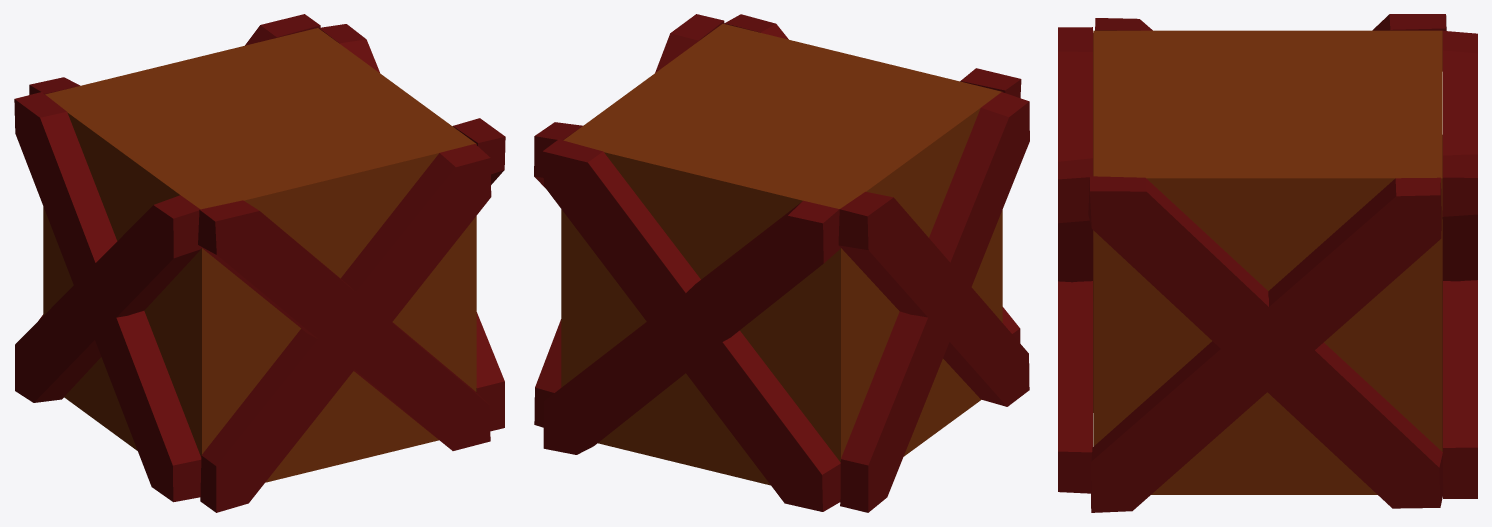
The model's file is crate.fbx.
3 renders of one model, left to right at view 1: azimuth 30°, elevation 25°; view 2: azimuth 150°, elevation 25°; view 3: azimuth 270°, elevation 25°, orthographic. The views are drawn at different scales.
Visible parts, largest first — view 1: Cube, Cube.007, Cube.005, Cube.008, Cube.006, Cube.002, Cube.001, Cube.004, Cube.003; view 2: Cube, Cube.004, Cube.006, Cube.003, Cube.005, Cube.001, Cube.002, Cube.007, Cube.008; view 3: Cube, Cube.001, Cube.002, Cube.008, Cube.003, Cube.004, Cube.007, Cube.005, Cube.006.
Boxes of the visible parts, box(x1,y1,x2,y2) form: Cube: box(43, 28, 476, 482); Cube.007: box(200, 144, 491, 512); Cube.005: box(14, 92, 201, 502); Cube.008: box(198, 200, 490, 450); Cube.006: box(15, 195, 201, 402); Cube.002: box(319, 24, 504, 431); Cube.001: box(452, 118, 505, 184); Cube.004: box(38, 14, 320, 320); Cube.003: box(29, 77, 80, 94); Cube: box(561, 23, 1002, 485); Cube.004: box(542, 139, 840, 511); Cube.006: box(840, 92, 1029, 512); Cube.003: box(543, 200, 840, 454); Cube.005: box(838, 191, 1029, 406); Cube.001: box(534, 14, 724, 427); Cube.002: box(534, 122, 582, 187); Cube.007: box(724, 14, 1020, 342); Cube.008: box(960, 68, 1021, 98); Cube: box(1093, 30, 1442, 494); Cube.001: box(1088, 176, 1443, 508); Cube.002: box(1091, 177, 1441, 512); Cube.008: box(1058, 27, 1093, 493); Cube.003: box(1442, 30, 1477, 498); Cube.004: box(1442, 154, 1477, 299); Cube.007: box(1058, 158, 1093, 300); Cube.005: box(1372, 14, 1446, 71); Cube.006: box(1095, 18, 1152, 30).
Size of the model in its own units: 240 by 204 by 240.
